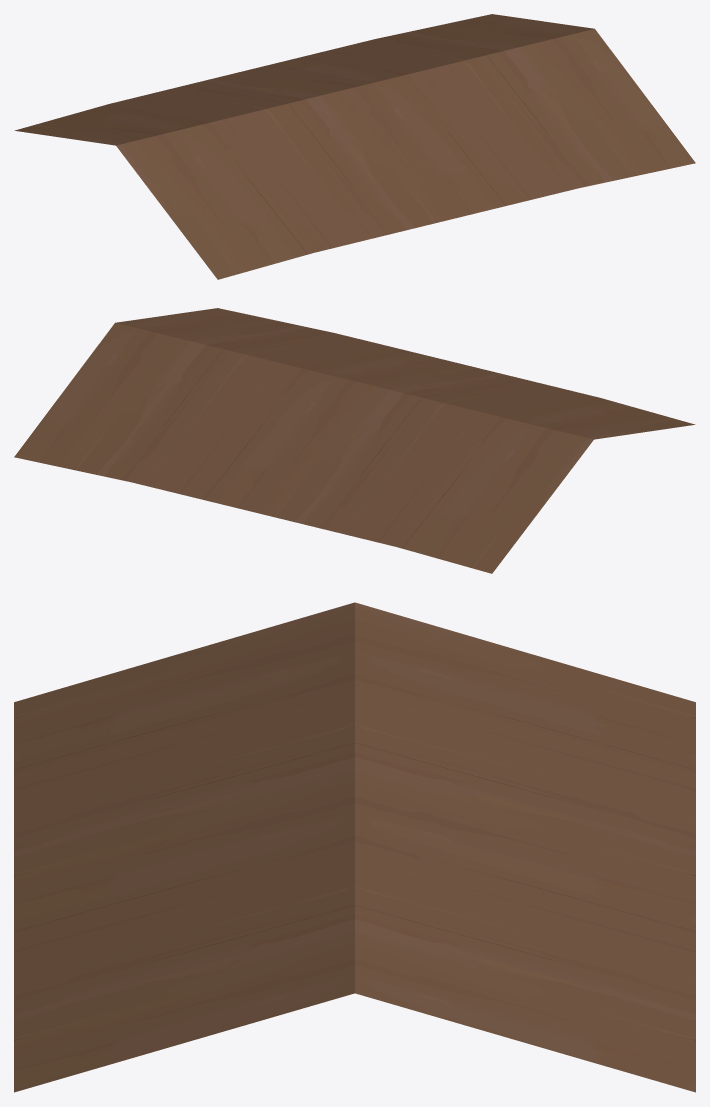
File: Mesh_Room_Wall_02_SM.fbx
3 views of the same model, one above another, from view 1: azimuth 30°, elevation 25°; view 2: azimuth 150°, elevation 25°; view 3: azimuth 270°, elevation 25° (orthographic). The views are drawn at different scales.
Parts seen in each view (by area): view 1: Mesh_Room_Wall_02; view 2: Mesh_Room_Wall_02; view 3: Mesh_Room_Wall_02.
Part boxes in pixels (<box>): Mesh_Room_Wall_02: <box>14,14,695,279</box>; Mesh_Room_Wall_02: <box>14,308,695,573</box>; Mesh_Room_Wall_02: <box>14,602,695,1092</box>.
Size of the model in its own units: 739 by 88.01 by 545.
